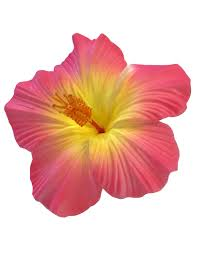hybiscus: (3, 34, 186, 219)
